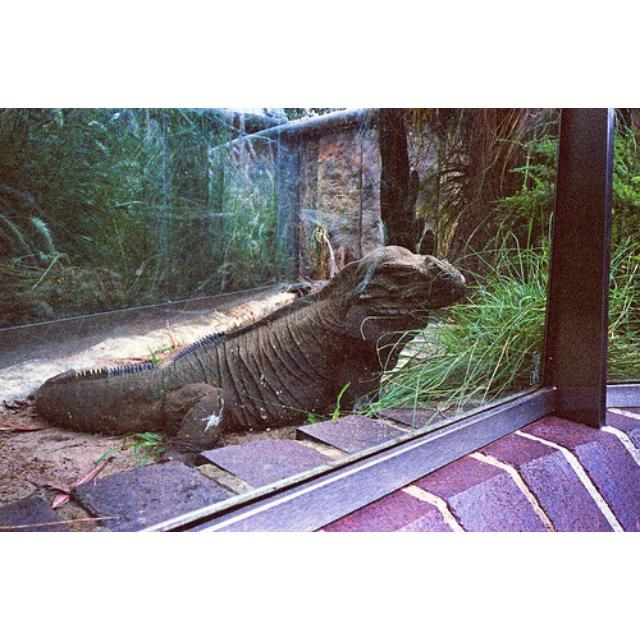KomodoDragon: (24, 244, 464, 464)
